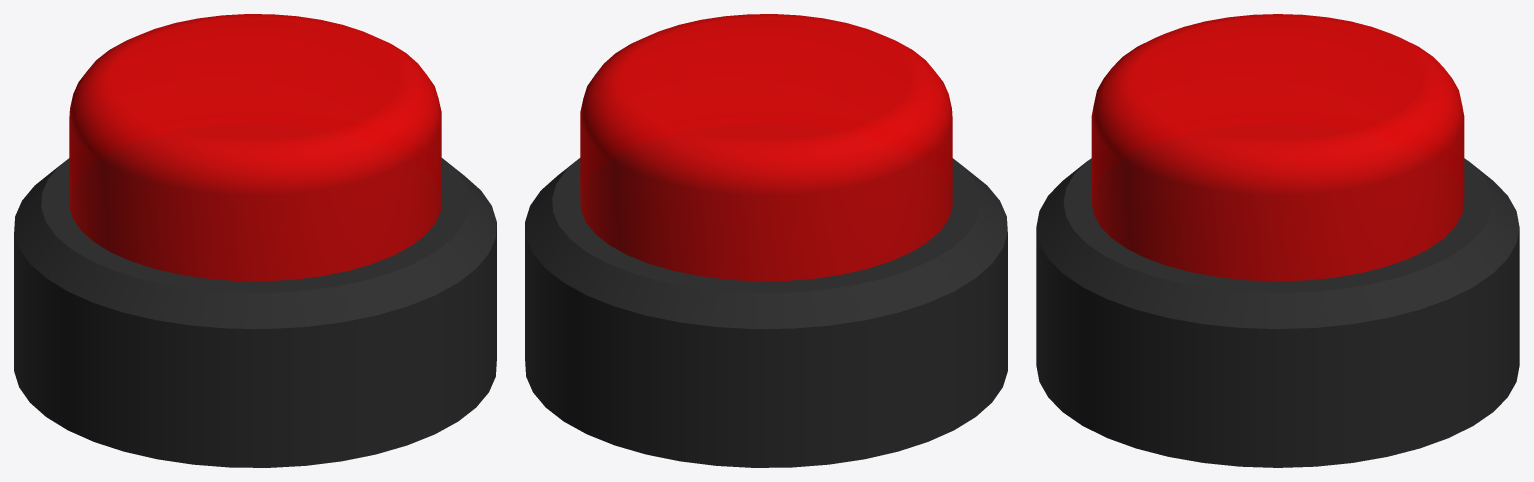
The model's file is button.fbx.
3 views of the same model, side by side, from view 1: azimuth 30°, elevation 25°; view 2: azimuth 150°, elevation 25°; view 3: azimuth 270°, elevation 25° (orthographic).
Parts seen in each view (by area): view 1: pCylinder1, pCylinder2; view 2: pCylinder1, pCylinder2; view 3: pCylinder1, pCylinder2.
Part boxes in pixels (x1,y1,x2,y2): pCylinder1: [14, 158, 496, 467]; pCylinder2: [69, 14, 441, 281]; pCylinder1: [525, 158, 1007, 467]; pCylinder2: [580, 14, 952, 281]; pCylinder1: [1036, 158, 1519, 467]; pCylinder2: [1091, 14, 1464, 281].
Bounding box in the file's own units: 2.76 × 1.81 × 2.76.
